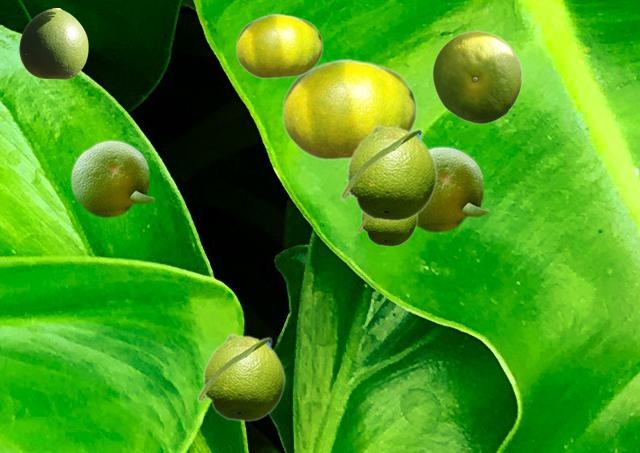dalandan: (281, 58, 416, 160), (339, 124, 437, 221), (432, 30, 521, 123), (196, 333, 285, 421), (69, 138, 155, 217), (417, 144, 490, 232), (235, 13, 322, 78), (19, 8, 87, 78), (356, 212, 417, 246)
